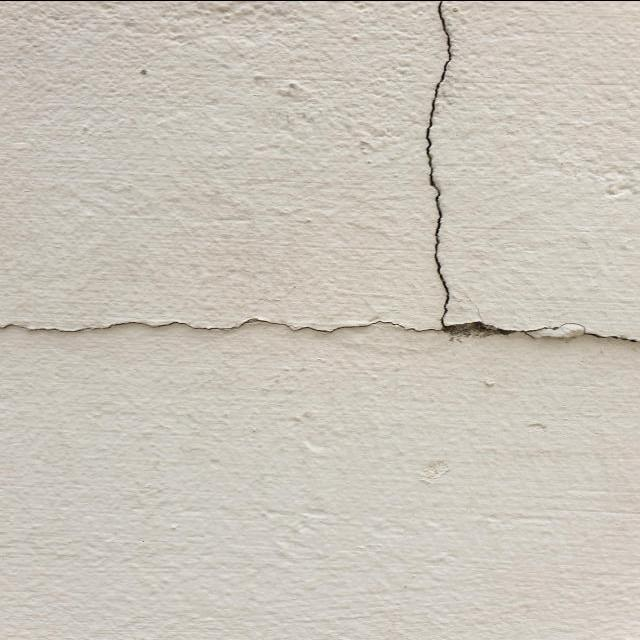SurfaceCrack: (0, 262, 639, 393), (399, 2, 491, 327)
